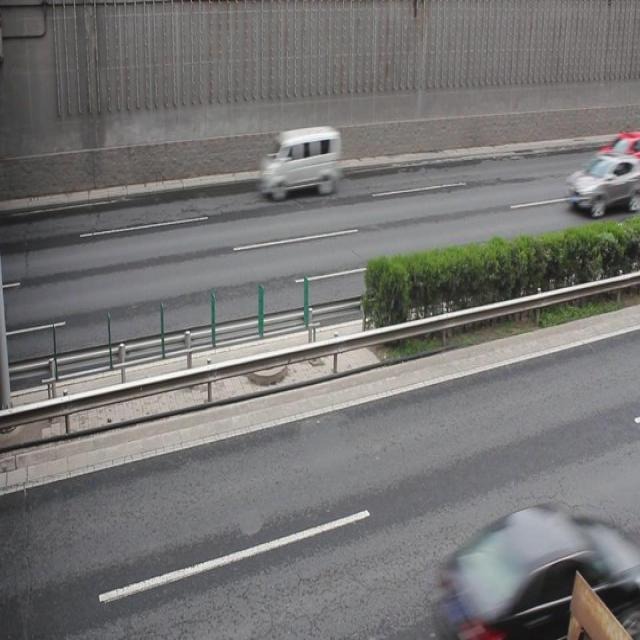car: (434, 500, 640, 640), (568, 154, 640, 216), (595, 128, 640, 173)
truck: (258, 128, 343, 194)
